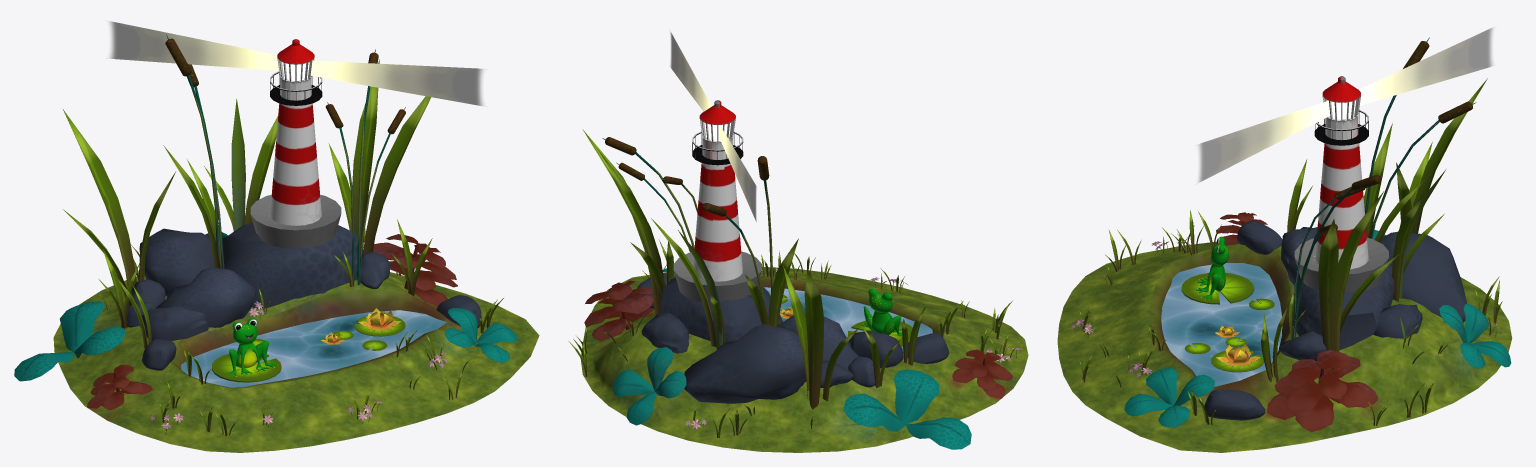
Rendered from pond.glb.
3 renders of one model, left to right at view 1: azimuth 30°, elevation 25°; view 2: azimuth 150°, elevation 25°; view 3: azimuth 270°, elevation 25°, orthographic. The views are drawn at different scales.
Visible parts, largest first — view 1: defaultMaterial; view 2: defaultMaterial; view 3: defaultMaterial.
Part boxes in pixels (x1,y1,x2,y2): defaultMaterial: (14, 21, 539, 452); defaultMaterial: (569, 31, 1028, 452); defaultMaterial: (1057, 27, 1512, 452).
Bounding box in the file's own units: 2 × 1.23 × 1.76.
1 material, 1 textured.
